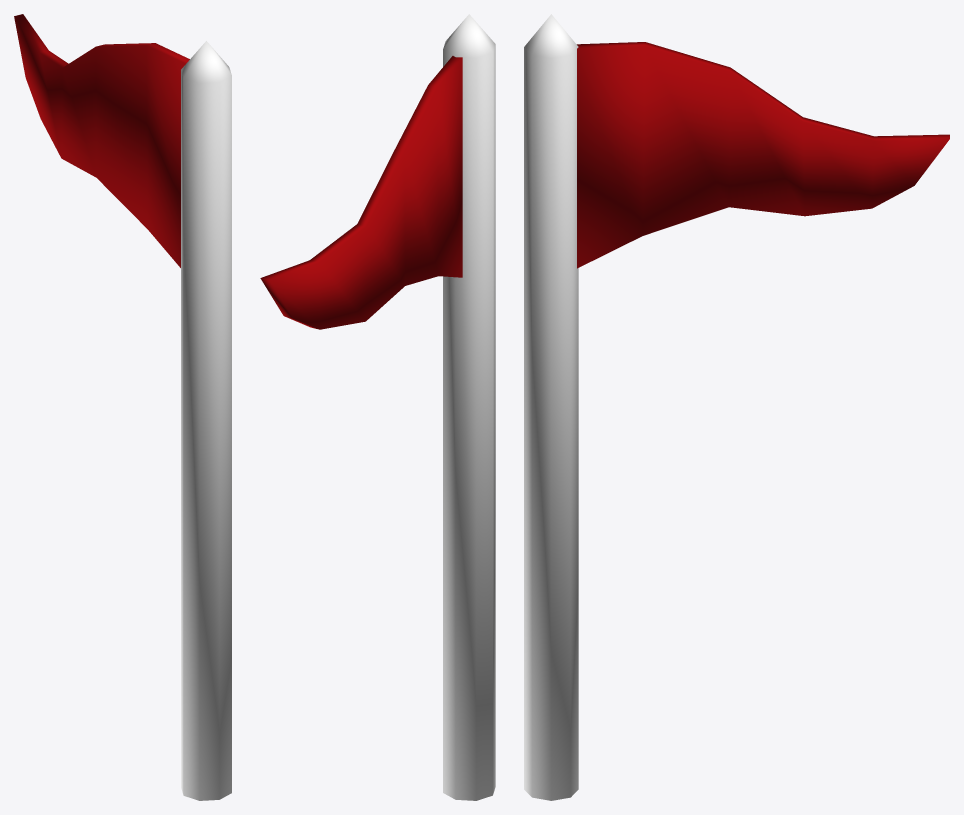
Rendered from Flag.fbx.
3 renders of one model, left to right at view 1: azimuth 30°, elevation 25°; view 2: azimuth 150°, elevation 25°; view 3: azimuth 270°, elevation 25°, orthographic. The views are drawn at different scales.
Parts seen in each view (by area): view 1: FlagPole, Flag; view 2: FlagPole, Flag; view 3: Flag, FlagPole.
Part boxes in pixels (x1,y1,x2,y2): FlagPole: (181, 41, 231, 800); Flag: (14, 14, 189, 267); FlagPole: (443, 14, 495, 800); Flag: (260, 56, 462, 329); Flag: (577, 42, 949, 268); FlagPole: (524, 14, 578, 800).
Bounding box in the file's own units: 10.26 × 157 × 77.96.
